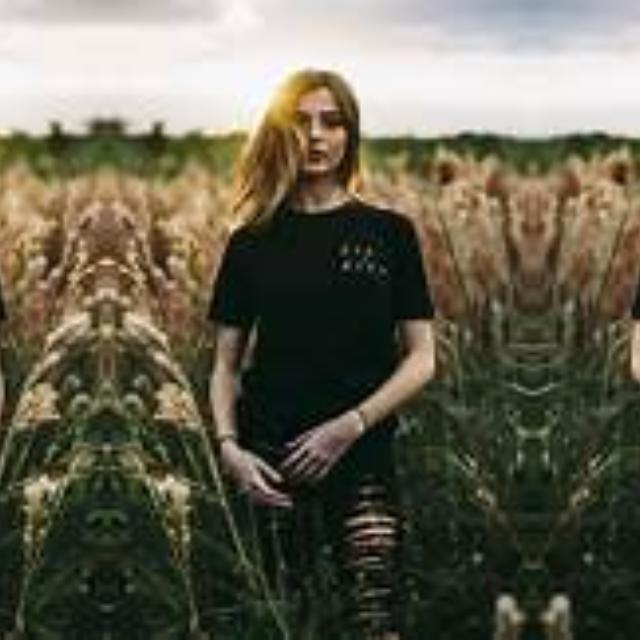person: (217, 58, 476, 590), (589, 58, 640, 590)
